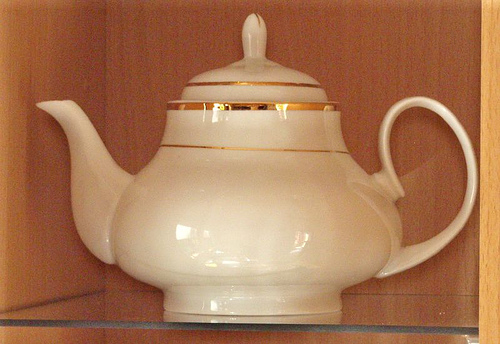teapot: (21, 1, 481, 333)
